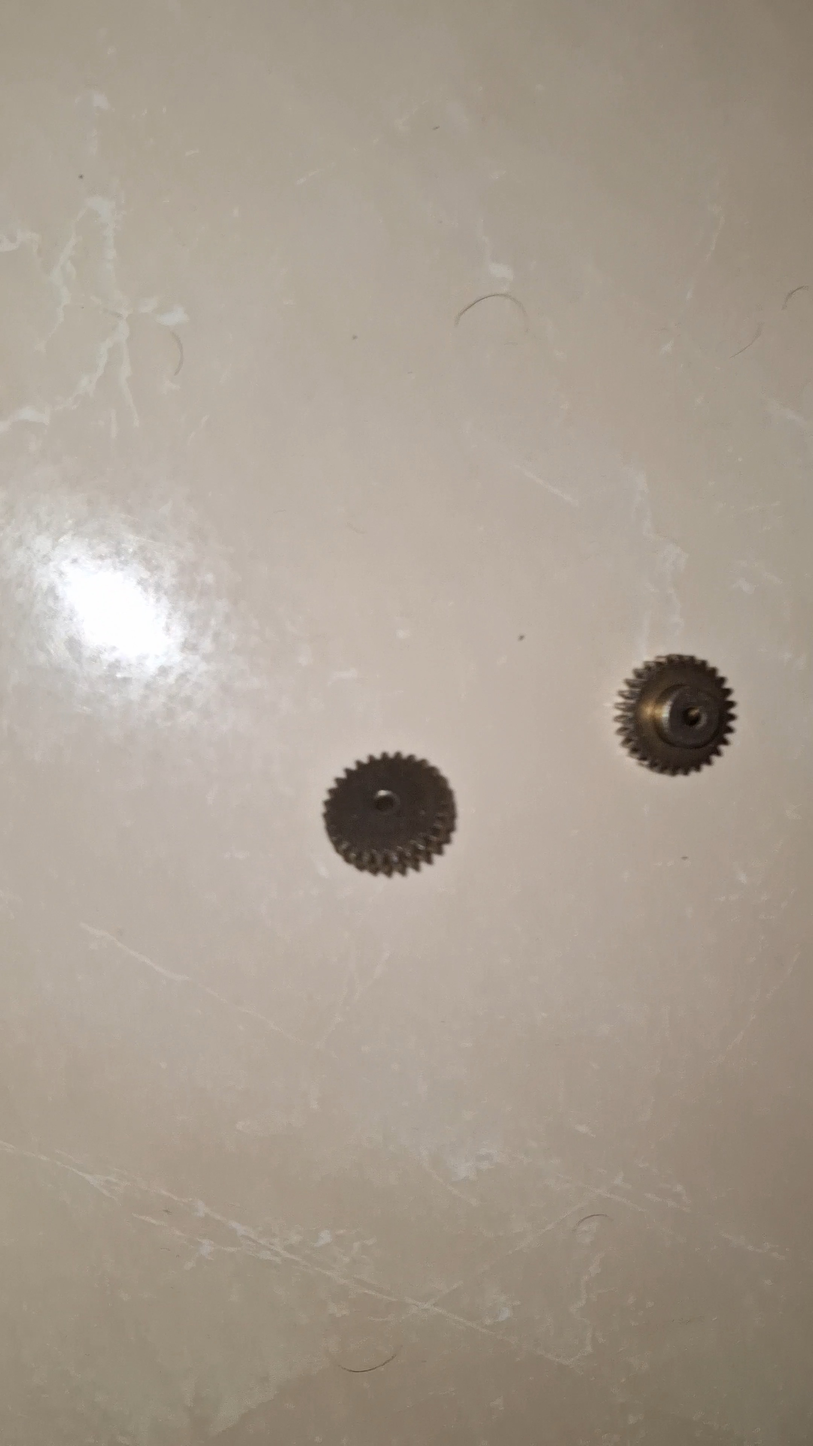spur gear: (323, 753, 455, 875), (616, 655, 735, 774)
